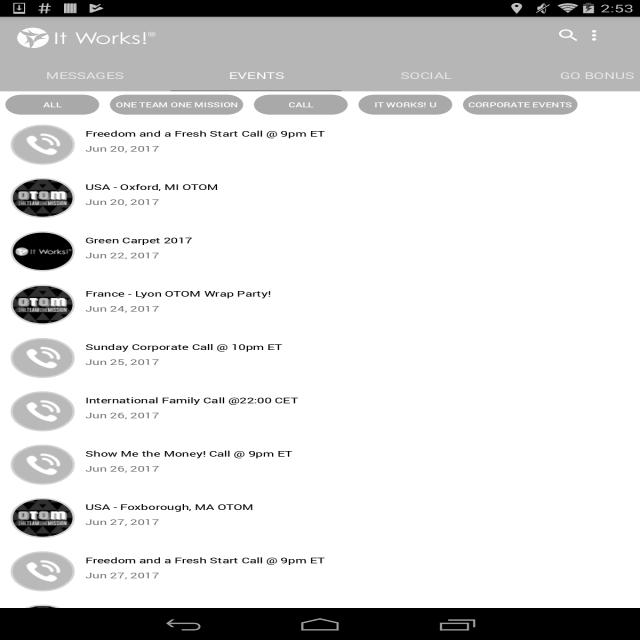Button: (110, 94, 243, 114), (463, 94, 578, 114), (5, 94, 100, 114), (254, 94, 348, 114), (358, 94, 452, 114)
ImageButton: (581, 28, 607, 44), (556, 28, 581, 44)
ImageView: (17, 27, 156, 49), (10, 124, 74, 164), (10, 178, 74, 218), (10, 232, 74, 272), (10, 284, 74, 324), (10, 338, 74, 378), (10, 392, 74, 432), (10, 444, 74, 484), (10, 498, 74, 538), (10, 552, 74, 592), (10, 604, 74, 640)
TextView: (85, 196, 640, 208), (85, 234, 640, 246), (85, 394, 640, 406), (85, 516, 640, 528), (85, 554, 640, 566), (85, 128, 640, 139), (85, 143, 640, 154), (85, 288, 640, 299), (85, 303, 640, 314), (85, 357, 640, 368), (85, 448, 640, 459), (85, 463, 640, 474), (85, 182, 640, 192), (85, 250, 640, 260), (85, 342, 640, 352), (85, 410, 640, 420), (85, 502, 640, 512), (85, 570, 640, 580), (46, 69, 124, 82), (560, 69, 634, 82), (228, 69, 284, 82), (401, 69, 452, 82)
